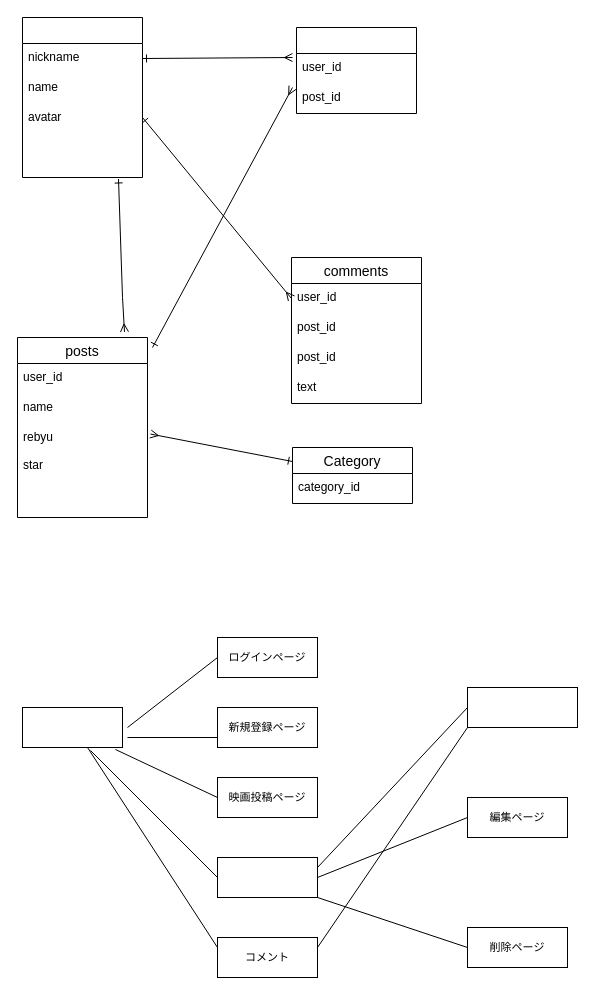
The diagram is 595 pixels wide and 995 high, and some of its shapes have lost their labels. Here are the shapes that lost their labels. From the top down, the box of each, then its label:
(296, 26, 416, 114): favorites
(22, 16, 142, 178): users
(22, 706, 122, 748): 一覧ページ
(466, 686, 578, 728): コメント一覧ページ
(216, 856, 318, 898): マイページ
